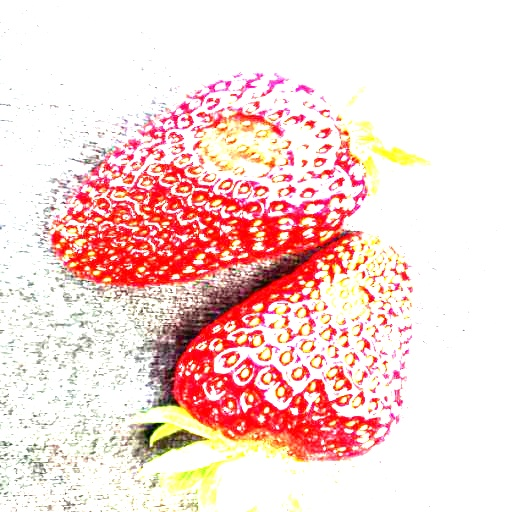Anthracnose Fruit Rot: (190, 109, 289, 184), (322, 273, 380, 323)
